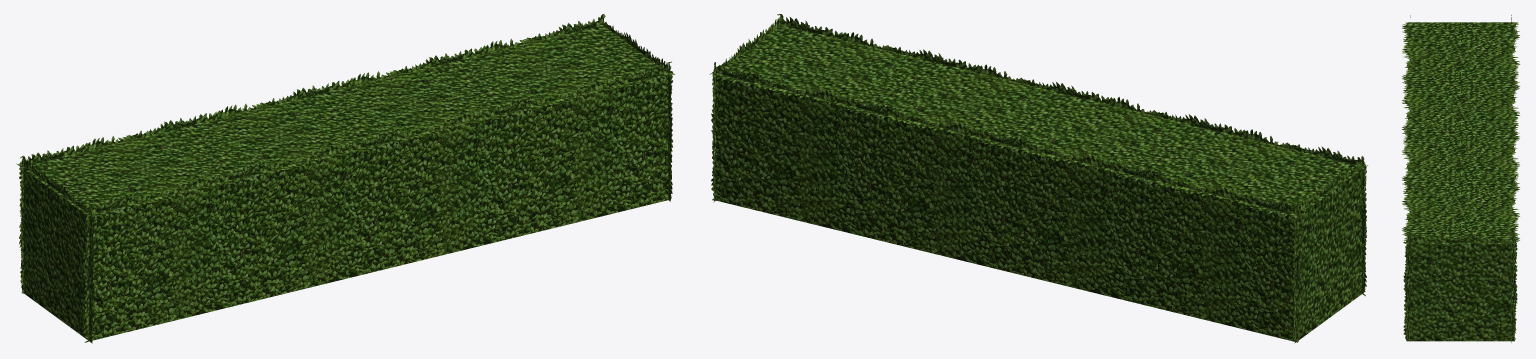
File: MESH_LongBush.fbx
3 renders of one model, left to right at view 1: azimuth 30°, elevation 25°; view 2: azimuth 150°, elevation 25°; view 3: azimuth 270°, elevation 25°, orthographic. The views are drawn at different scales.
Parts seen in each view (by area): view 1: MESH_LongBush; view 2: MESH_LongBush; view 3: MESH_LongBush.
Part boxes in pixels (<box>): MESH_LongBush: <box>16,14,674,343</box>; MESH_LongBush: <box>710,14,1367,343</box>; MESH_LongBush: <box>1402,15,1520,342</box>.
Size of the model in its own units: 492 by 111 by 113.
